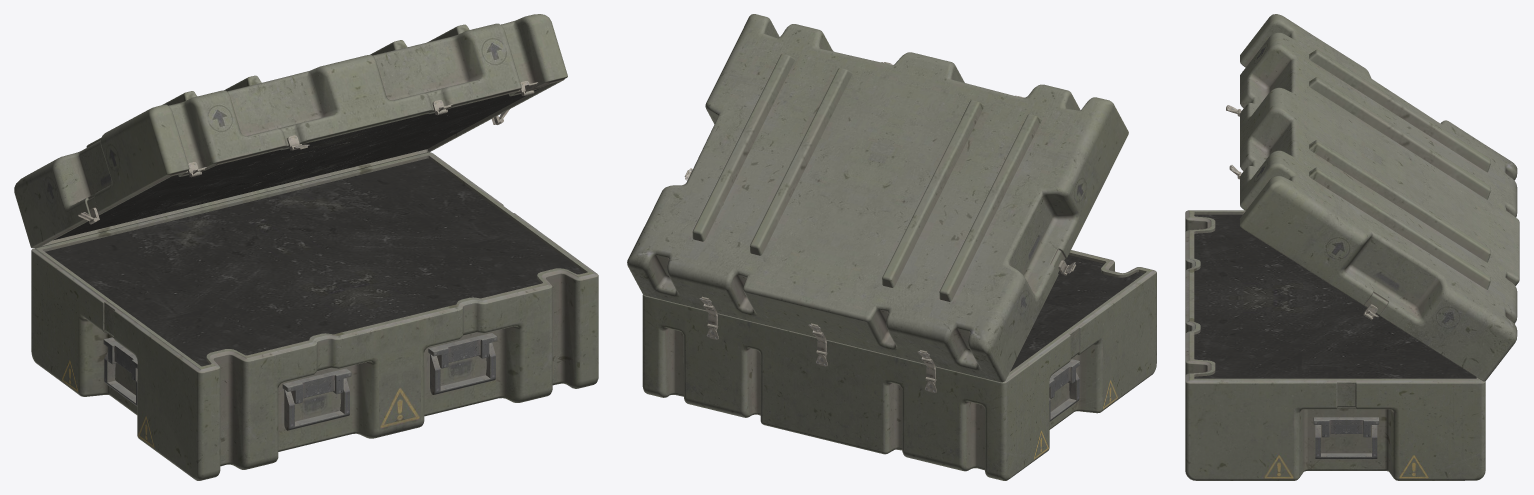
The model's file is SM_Military_Crate_Open.glb.
3 renders of one model, left to right at view 1: azimuth 30°, elevation 25°; view 2: azimuth 150°, elevation 25°; view 3: azimuth 270°, elevation 25°, orthographic. The views are drawn at different scales.
Visible parts, largest first — view 1: SM_Military_Crate_Open; view 2: SM_Military_Crate_Open; view 3: SM_Military_Crate_Open.
Part boxes in pixels (x1,y1,x2,y2): SM_Military_Crate_Open: [14, 14, 598, 480]; SM_Military_Crate_Open: [627, 14, 1156, 480]; SM_Military_Crate_Open: [1185, 14, 1519, 480].
Size of the model in its own units: 0.8013 by 0.6023 by 0.6125.
Materials: 2 (2 with a texture image).
